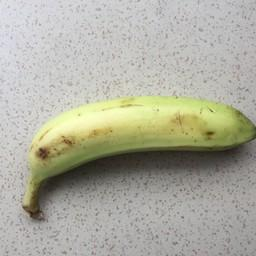Banana Ripe: (2, 86, 256, 202)
